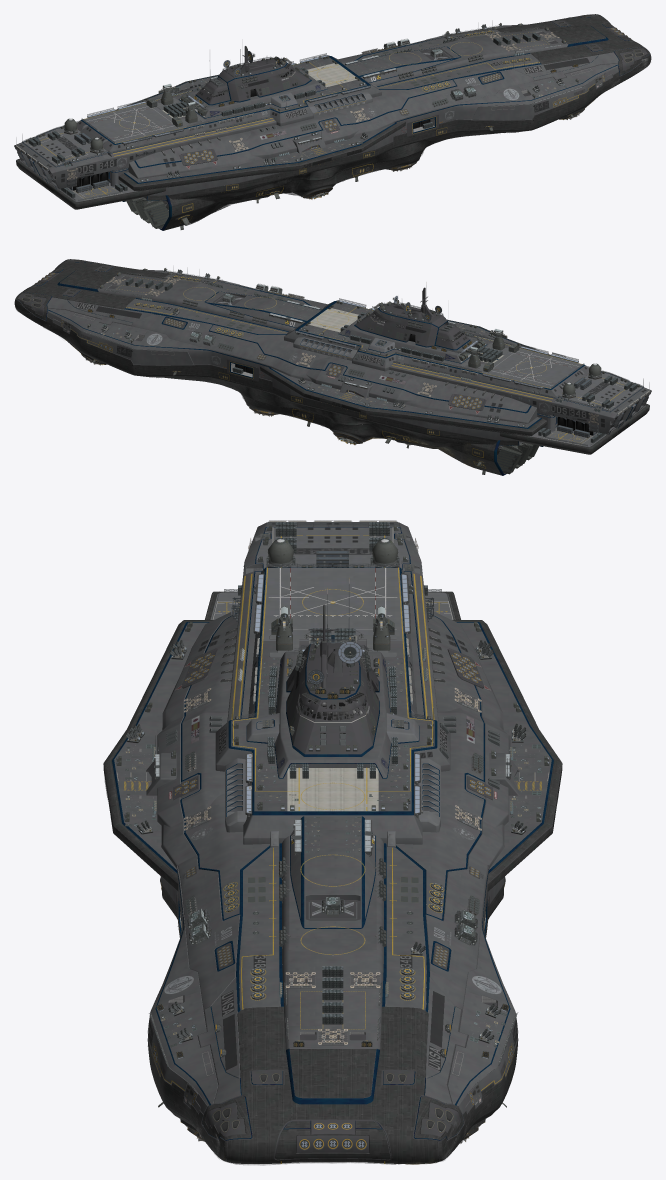
File: boss.glb
The picture shows the model from 3 angles, top to bottom: view 1: azimuth 30°, elevation 25°; view 2: azimuth 150°, elevation 25°; view 3: azimuth 270°, elevation 25°; orthographic projection. The views are drawn at different scales.
Visible parts, largest first — view 1: Object_22, Object_21, Object_4, Object_20, Object_6, Object_7, Object_19, Object_14, Object_12, Object_25; view 2: Object_22, Object_21, Object_4, Object_20, Object_6, Object_7, Object_19, Object_14, Object_12, Object_25; view 3: Object_22, Object_21, Object_4, Object_7, Object_6, Object_20, Object_19, Object_12.
Part boxes in pixels (box(x1,y1,x2,y2)): Object_22: box(14, 14, 651, 230); Object_21: box(20, 14, 650, 230); Object_4: box(15, 14, 644, 221); Object_20: box(40, 31, 649, 223); Object_6: box(25, 27, 577, 197); Object_7: box(15, 23, 582, 228); Object_19: box(37, 26, 589, 192); Object_14: box(126, 109, 584, 228); Object_12: box(64, 87, 197, 149); Object_25: box(73, 89, 434, 190); Object_22: box(14, 259, 651, 475); Object_21: box(15, 259, 645, 475); Object_4: box(21, 259, 650, 466); Object_20: box(15, 276, 624, 468); Object_6: box(88, 272, 640, 442); Object_7: box(84, 268, 650, 474); Object_19: box(75, 269, 629, 437); Object_14: box(81, 354, 539, 474); Object_12: box(468, 332, 601, 394); Object_25: box(231, 334, 592, 435); Object_22: box(103, 522, 562, 1163); Object_21: box(103, 527, 562, 1161); Object_4: box(124, 520, 541, 1150); Object_7: box(125, 521, 526, 1066); Object_6: box(116, 522, 549, 1046); Object_20: box(117, 527, 548, 1165); Object_19: box(104, 548, 561, 1070); Object_12: box(268, 542, 397, 650).
Size of the model in its own units: 43291 by 10507 by 14452.
16 materials, 16 textured.
